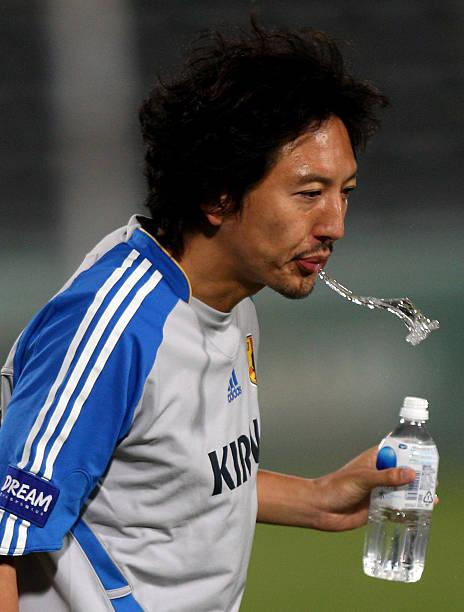Spitting: (125, 29, 430, 343)
